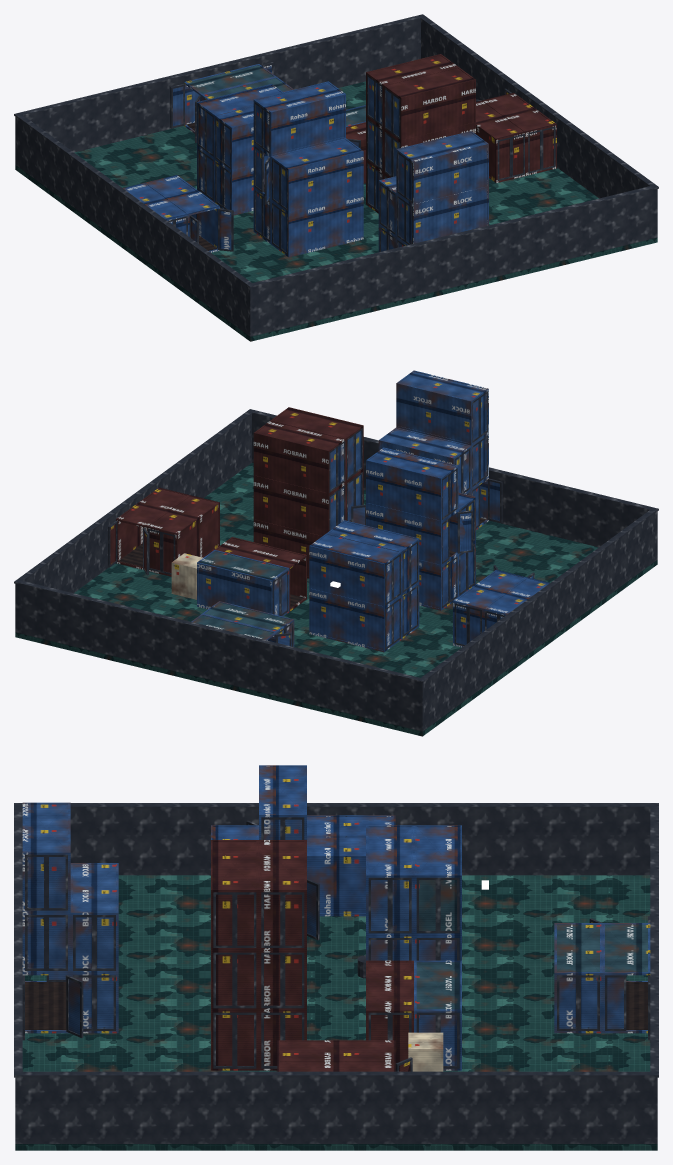
The model's file is lobby.glb.
3 renders of one model, top to bottom at view 1: azimuth 30°, elevation 25°; view 2: azimuth 150°, elevation 25°; view 3: azimuth 270°, elevation 25°, orthographic. The views are drawn at different scales.
Parts seen in each view (by area): view 1: steel_merged, left_wall, deck, center_blue, center_red, center_green; view 2: steel_merged, left_wall, deck, center_red, center_blue, center_green, beige_case; view 3: steel_merged, deck, center_red, center_blue, left_wall, center_green, wood_merged, beige_case.
Part boxes in pixels (x1,y1,x2,y2): steel_merged: (14,14,658,336); left_wall: (123,81,363,257); deck: (15,81,657,341); center_blue: (173,64,488,251); center_red: (346,54,556,213); center_green: (187,65,365,125); steel_merged: (14,391,658,731); left_wall: (309,447,549,652); deck: (15,463,657,736); center_red: (110,407,363,611); center_blue: (191,370,499,646); center_green: (193,551,290,639); beige_case: (171,553,202,599); steel_merged: (14,803,658,1143); deck: (15,875,657,1150); center_red: (211,840,413,1071); center_blue: (22,802,650,1070); left_wall: (211,765,461,960); center_green: (416,880,647,1009); wood_merged: (25,982,647,1029); beige_case: (408,1032,443,1071).
Size of the model in its own units: 26 by 8.34 by 26.
14 materials, 13 textured.
